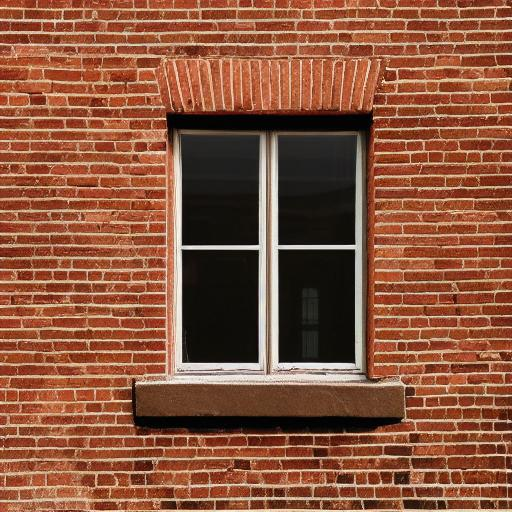Window: (131, 55, 407, 425)
